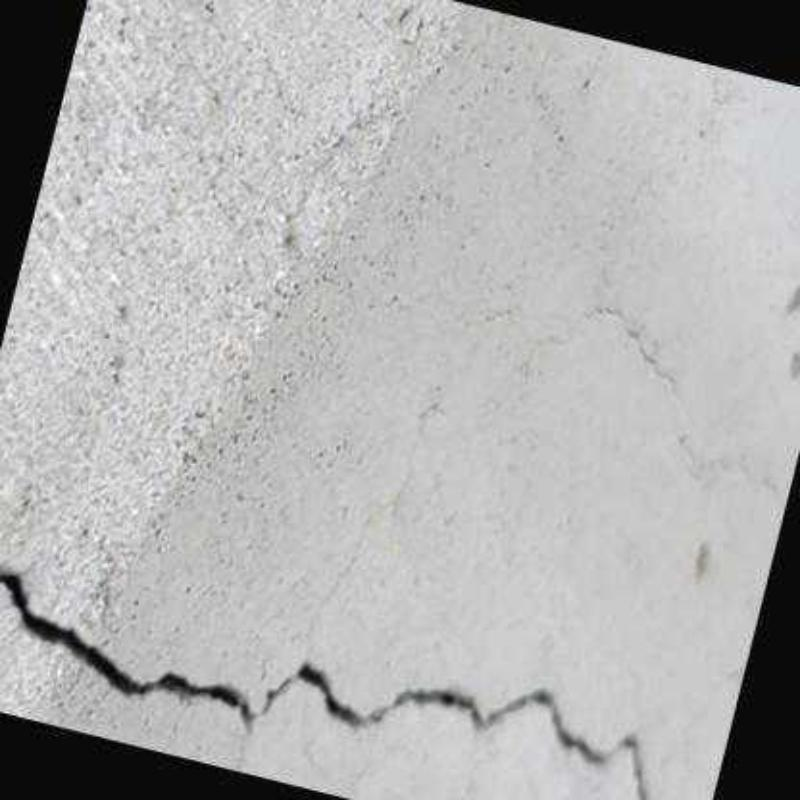pothole: (0, 575, 646, 800)
